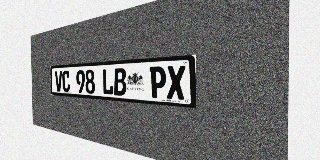8: (85, 69, 95, 94)
9: (76, 70, 85, 93)
B: (114, 68, 126, 96)
C: (62, 70, 70, 92)
L: (102, 69, 114, 95)
P: (149, 66, 166, 99)
V: (55, 71, 62, 92)
X: (167, 65, 185, 100)
